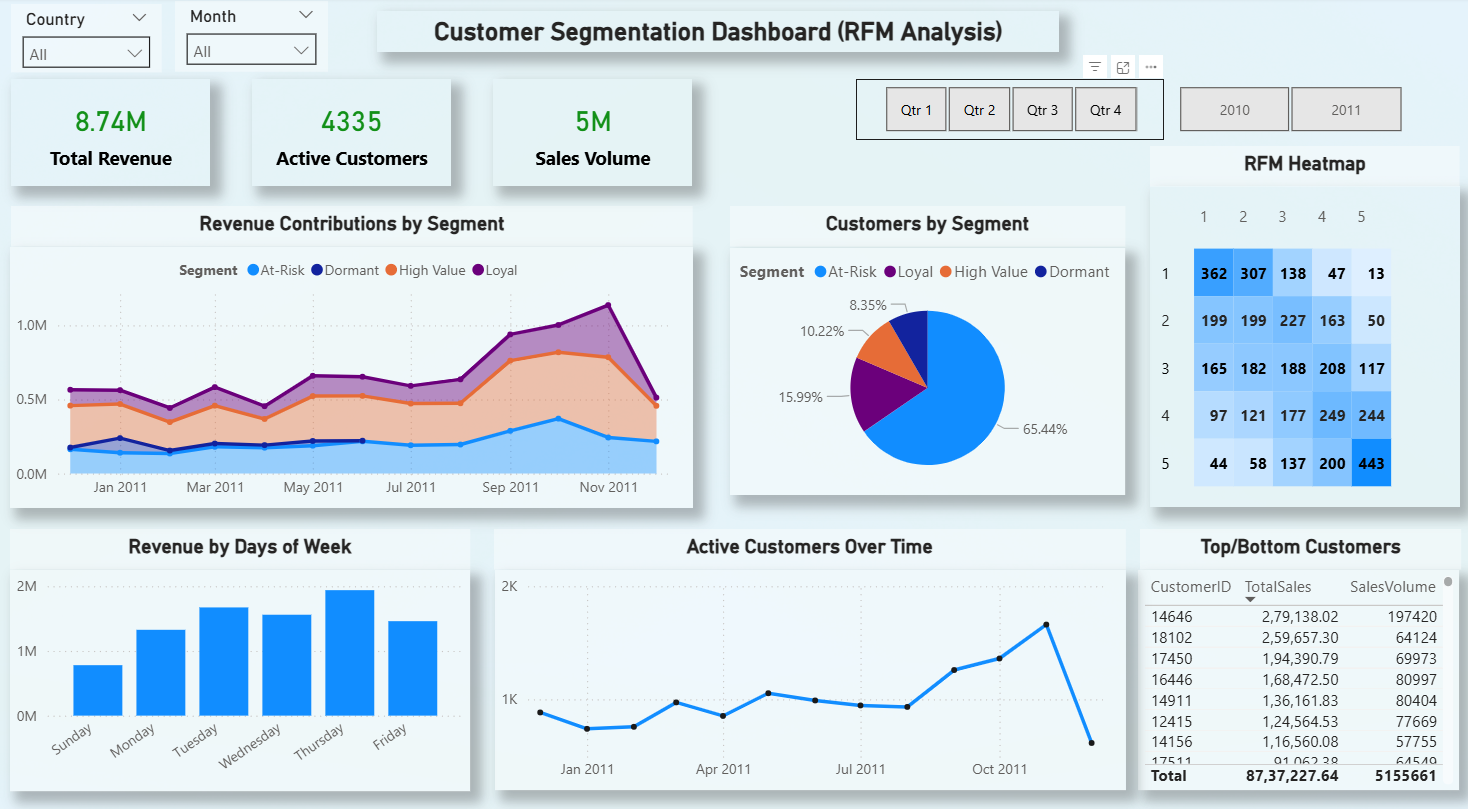

This screenshot's page, from the dashboard's own definition file:
{"tool":"powerbi","page":{"name":"Page 1","canvas":[1280,720],"ordinal":0},"visuals":[{"type":"group","id":"g1","title":"KPI Cards","box":[13.2,70.6,626.5,91.9],"z":0},{"type":"card","title":"Sales Vol Card","fields":{"Values":["measures_.Sales Volume"]},"box":[442.5,70.6,197.1,91.9],"z":0,"group":"g1"},{"type":"pivotTable","title":"HeatMap","fields":{"Rows":["rfm_cleaned.RScore"],"Columns":["rfm_cleaned.FScore"],"Values":["CountNonNull(rfm_cleaned.MScore)"]},"box":[963.2,191.2,276.5,267.6],"z":0,"group":"g4"},{"type":"stackedAreaChart","fields":{"Y":["measures_.TotalRevenue"],"Series":["rfm_cleaned.Customer_Segment"],"Category":["date.InvoiceDate.Variation.Date Hierarchy.Year","date.InvoiceDate.Variation.Date Hierarchy.Quarter","date.InvoiceDate.Variation.Date Hierarchy.Month"]},"box":[13.2,214.7,626.5,244.1],"z":0,"group":"g2"},{"type":"pieChart","fields":{"Category":["rfm_cleaned.Customer_Segment"],"Y":["measures_.CustomerCount"]},"box":[667.6,214.7,266.2,244.1],"z":0,"group":"g3"},{"type":"clusteredColumnChart","fields":{"Category":["date.Day Of Week"],"Y":["measures_.TotalRevenue"]},"box":[13.2,514.7,366.2,197.8],"z":0,"group":"g5"},{"type":"lineChart","fields":{"Y":["measures_.CustomerCount"],"Category":["date.InvoiceDate.Variation.Date Hierarchy.Year","date.InvoiceDate.Variation.Date Hierarchy.Quarter","date.InvoiceDate.Variation.Date Hierarchy.Month"]},"box":[393.4,514.7,540.4,197.8],"z":0,"group":"g6"},{"type":"tableEx","fields":{"Values":["refined_data.CustomerID","measures_.TotalRevenue","measures_.Sales Volume"]},"box":[951.5,514.7,299.3,197.8],"z":0,"group":"g7"},{"type":"textbox","box":[369.1,3.7,589,47.8],"z":1000},{"type":"card","title":"Active Cus Card","fields":{"Values":["measures_.CustomerCount"]},"box":[229.6,70.6,197.1,91.9],"z":1000,"group":"g1"},{"type":"textbox","box":[963.2,158.1,276.5,33.1],"z":1000,"group":"g4"},{"type":"textbox","box":[13.2,180.1,626.5,35.3],"z":1000,"group":"g2"},{"type":"textbox","box":[667.6,180.1,266.2,34.6],"z":1000,"group":"g3"},{"type":"textbox","box":[13.2,479.4,366.2,35.3],"z":1000,"group":"g5"},{"type":"textbox","box":[393.4,479.4,540.4,35.3],"z":1000,"group":"g6"},{"type":"textbox","box":[951.5,479.4,299.3,35.3],"z":1000,"group":"g7"},{"type":"slicer","fields":{"Values":["refined_data.Country"]},"box":[13.2,3.7,152.9,61.8],"z":2000},{"type":"card","title":"TotalRev Card","fields":{"Values":["measures_.TotalRevenue"]},"box":[13.2,70.6,197.1,91.9],"z":2000,"group":"g1"},{"type":"slicer","fields":{"Values":["date.Month"]},"box":[189.7,3.7,153.7,61.8],"z":3000},{"type":"slicer","fields":{"Values":["date.Quarter_"]},"box":[706.6,70.6,275.7,63.2],"z":4000},{"type":"slicer","fields":{"Values":["date.Year"]},"box":[964,70.6,275.7,63.2],"z":5000},{"type":"group","id":"g2","title":"Area Chart","box":[13.2,180.1,626.5,278.7],"z":6000},{"type":"group","id":"g3","title":"Pie Chart","box":[667.6,180.1,266.2,278.7],"z":7000},{"type":"group","id":"g4","title":"Heatrmap","box":[963.2,158.1,276.5,300.7],"z":8000},{"type":"group","id":"g5","title":"Col Chart","box":[13.2,479.4,366.2,233.1],"z":9000},{"type":"group","id":"g6","title":"Line Chart","box":[393.4,479.4,540.4,233.1],"z":10000},{"type":"group","id":"g7","title":"Table","box":[951.5,479.4,299.3,233.1],"z":11000}]}

Visuals, with their boxes in screenshot pixels (x1, y1, x2, y2), scaled from the page's 1280x720 canvas onto the 1468x809 screenshot:
"KPI Cards" group: select_region(15, 79, 734, 183)
"Sales Vol Card" card: select_region(507, 79, 734, 183)
"HeatMap" pivotTable: select_region(1105, 215, 1422, 516)
stackedAreaChart - measures_.TotalRevenue x rfm_cleaned.Customer_Segment: select_region(15, 241, 734, 516)
pieChart - rfm_cleaned.Customer_Segment x measures_.CustomerCount: select_region(766, 241, 1071, 516)
clusteredColumnChart - date.Day Of Week x measures_.TotalRevenue: select_region(15, 578, 435, 801)
lineChart - measures_.CustomerCount x date.InvoiceDate.Variation.Date Hierarchy.Year: select_region(451, 578, 1071, 801)
tableEx - refined_data.CustomerID x measures_.TotalRevenue: select_region(1091, 578, 1435, 801)
textbox: select_region(423, 4, 1099, 58)
"Active Cus Card" card: select_region(263, 79, 489, 183)
textbox: select_region(1105, 178, 1422, 215)
textbox: select_region(15, 202, 734, 242)
textbox: select_region(766, 202, 1071, 241)
textbox: select_region(15, 539, 435, 578)
textbox: select_region(451, 539, 1071, 578)
textbox: select_region(1091, 539, 1435, 578)
slicer - refined_data.Country: select_region(15, 4, 190, 74)
"TotalRev Card" card: select_region(15, 79, 241, 183)
slicer - date.Month: select_region(218, 4, 394, 74)
slicer - date.Quarter_: select_region(810, 79, 1127, 150)
slicer - date.Year: select_region(1106, 79, 1422, 150)
"Area Chart" group: select_region(15, 202, 734, 516)
"Pie Chart" group: select_region(766, 202, 1071, 516)
"Heatrmap" group: select_region(1105, 178, 1422, 516)
"Col Chart" group: select_region(15, 539, 435, 801)
"Line Chart" group: select_region(451, 539, 1071, 801)
"Table" group: select_region(1091, 539, 1435, 801)
